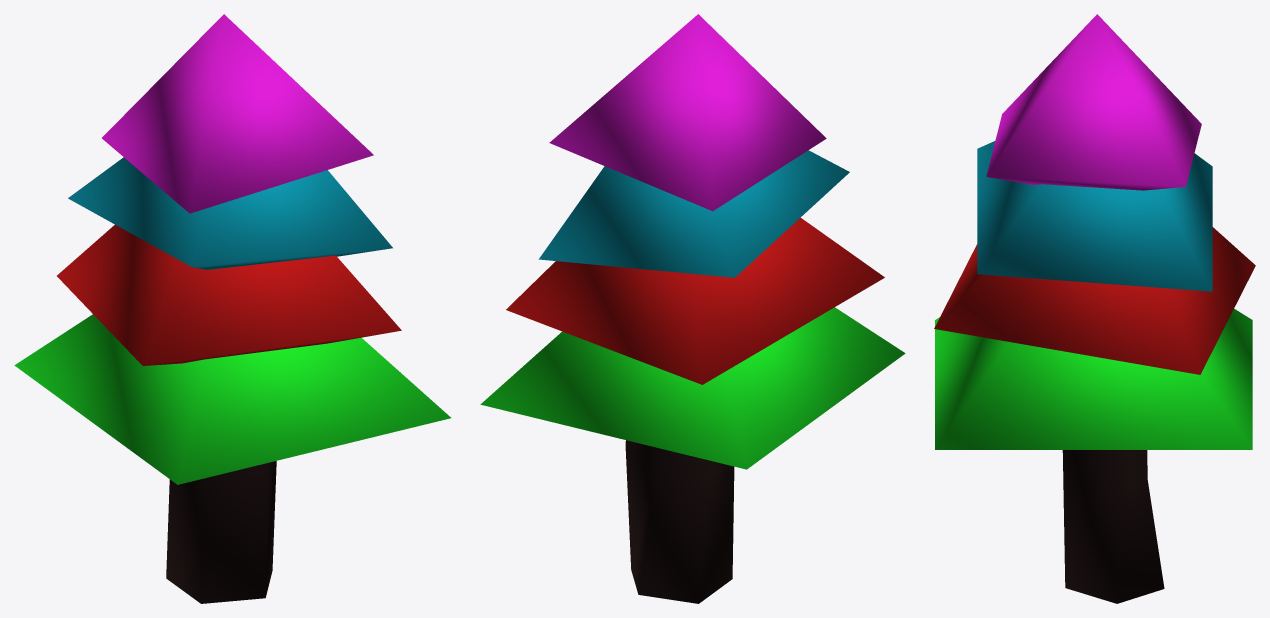
Rendered from tree2.obj.
3 renders of one model, left to right at view 1: azimuth 30°, elevation 25°; view 2: azimuth 150°, elevation 25°; view 3: azimuth 270°, elevation 25°, orthographic. The views are drawn at different scales.
Parts seen in each view (by area): view 1: Cylinder005; view 2: Cylinder005; view 3: Cylinder005.
Part boxes in pixels (bbox=[...]): Cylinder005: bbox=[14, 14, 450, 603]; Cylinder005: bbox=[480, 14, 905, 603]; Cylinder005: bbox=[934, 14, 1255, 603].
Bounding box in the file's own units: 41.55 × 81.54 × 42.31.
